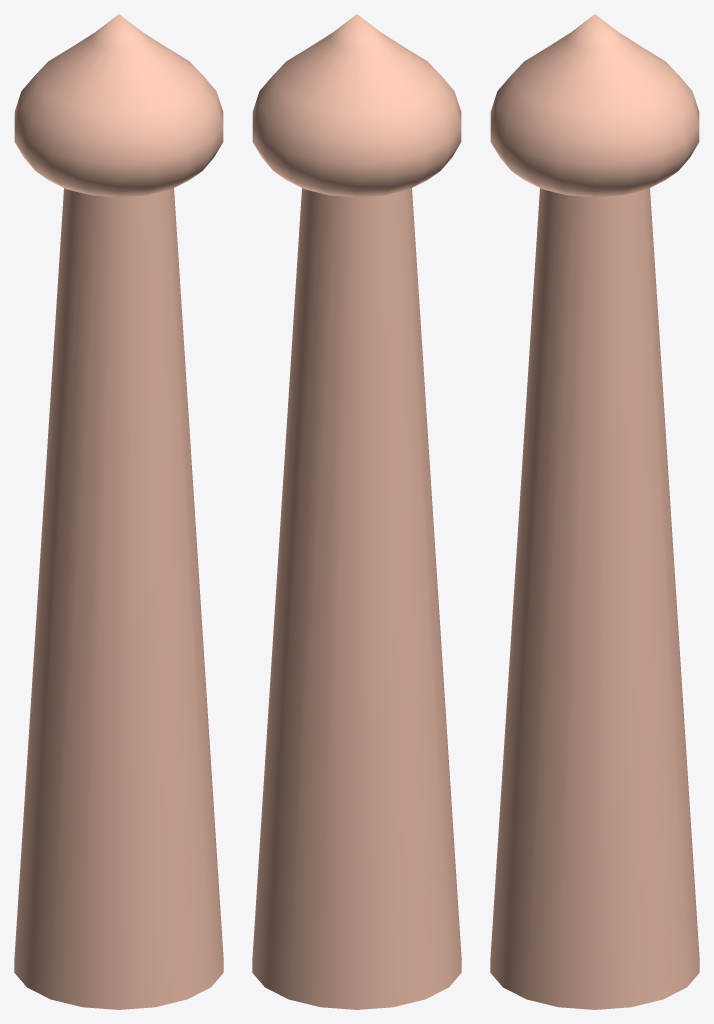
The model's file is Castillo_PilarF.fbx.
3 renders of one model, left to right at view 1: azimuth 30°, elevation 25°; view 2: azimuth 150°, elevation 25°; view 3: azimuth 270°, elevation 25°, orthographic.
Parts seen in each view (by area): view 1: Castillo_PilarF; view 2: Castillo_PilarF; view 3: Castillo_PilarF.
Boxes of the visible parts, left/top/right/bottom form: Castillo_PilarF: left=14, top=14, right=223, bottom=1009; Castillo_PilarF: left=252, top=14, right=461, bottom=1009; Castillo_PilarF: left=490, top=14, right=699, bottom=1009.
Bounding box in the file's own units: 5605 × 27714 × 5520.
